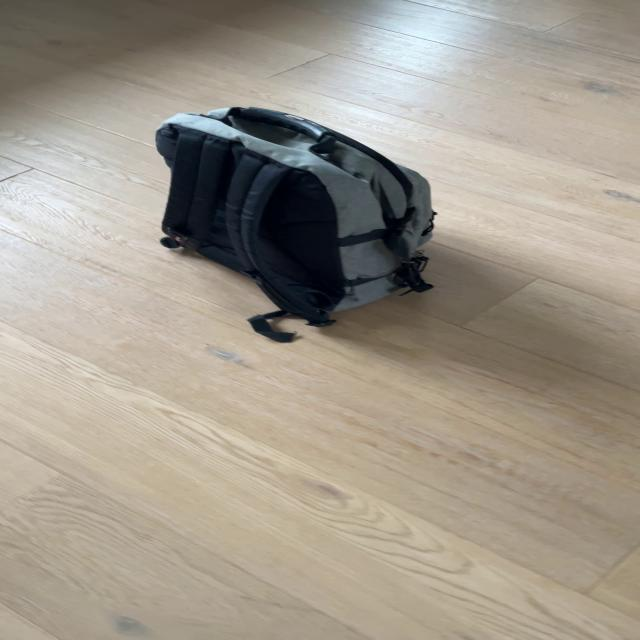backpack: (144, 98, 452, 332)
